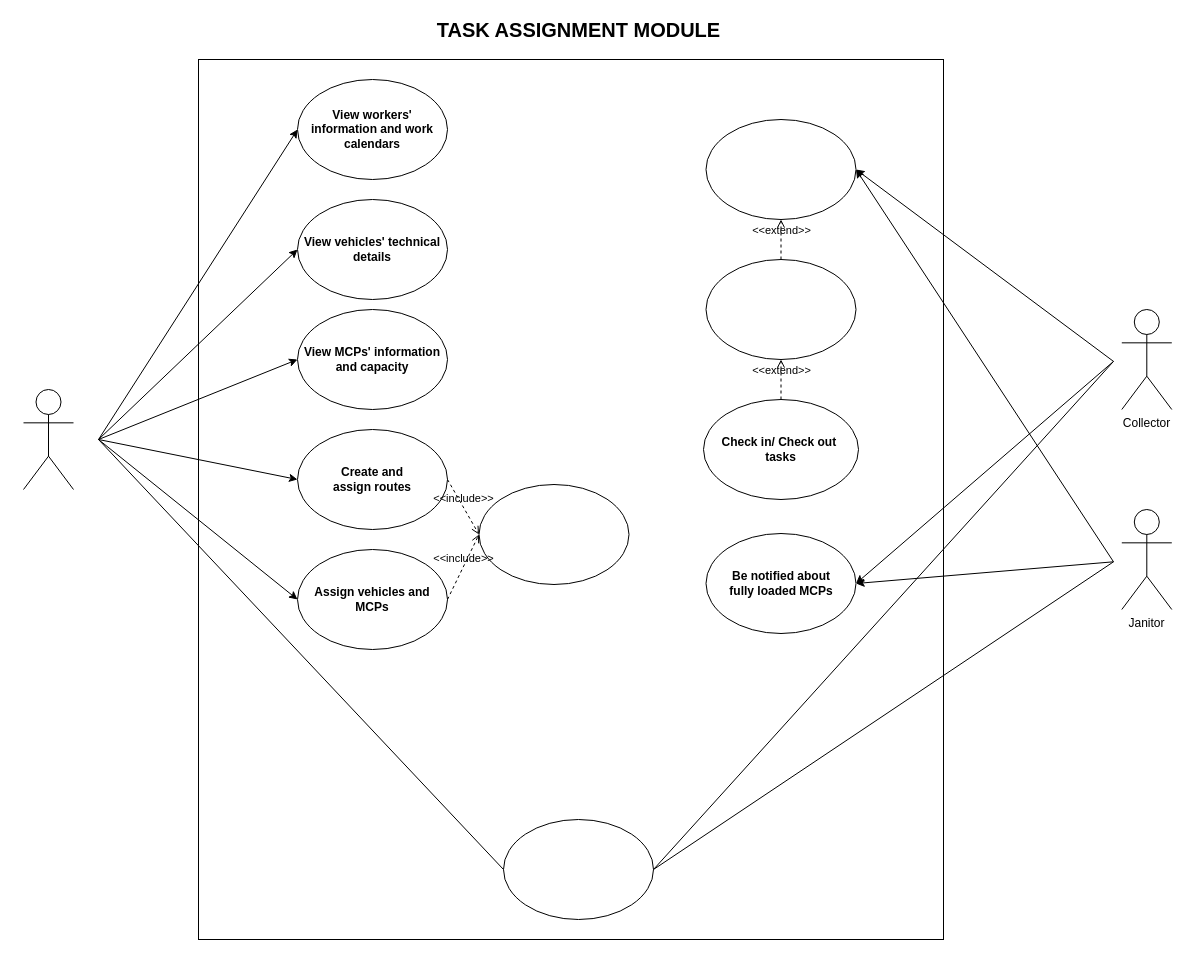
Image size: 1190x957. Some labels were removed from this diagram. The box of each missing label's shape, as (x1, y1, x2, y2) in pixels:
Back officer: (22, 388, 74, 490)
Message: (502, 818, 654, 920)
Update work calendar: (478, 484, 629, 584)
View routes, daily and weekly tasks: (705, 258, 856, 360)
View work calendar: (705, 118, 856, 220)
